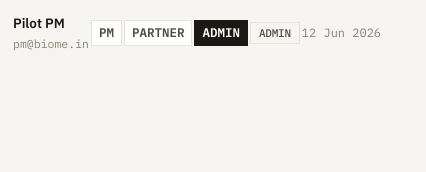
changing the role › shows the server's refusal on the row
What coordinates should you click on to do the following:
click the button "PM"
I would click on:
 (106, 33)
Its box is [91,20,122,46].
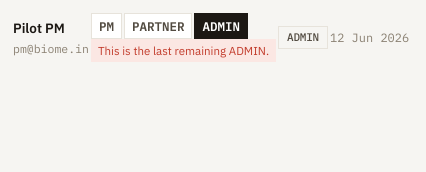
Expected: the text "This is the last remaining ADMIN." is shown, [91,39,276,62]
